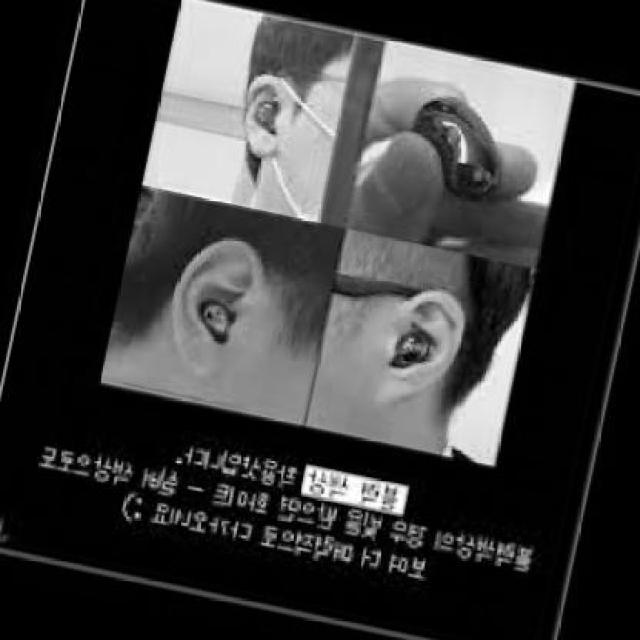earphone: (410, 90, 540, 208), (188, 287, 239, 364), (384, 318, 442, 379), (249, 84, 289, 145)
